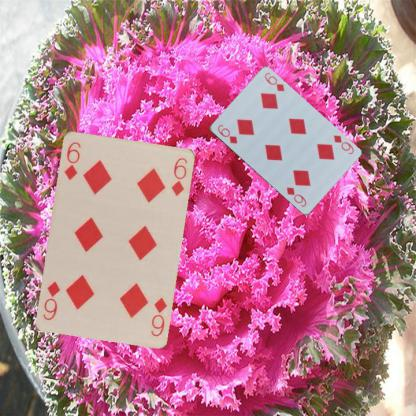6d: (61, 139, 82, 182), (148, 294, 167, 338), (330, 132, 355, 156), (214, 122, 239, 145)
